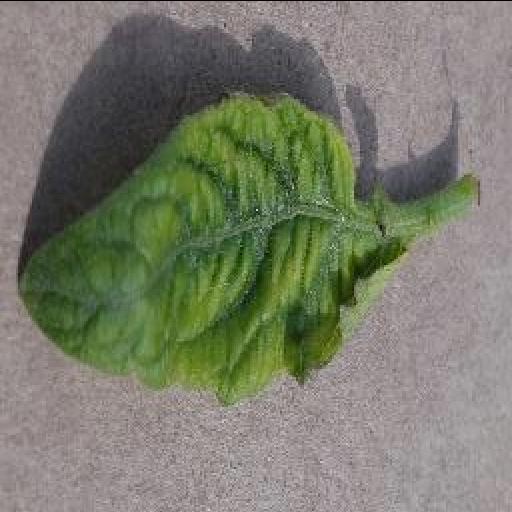disease_tomato: (14, 88, 406, 404)
